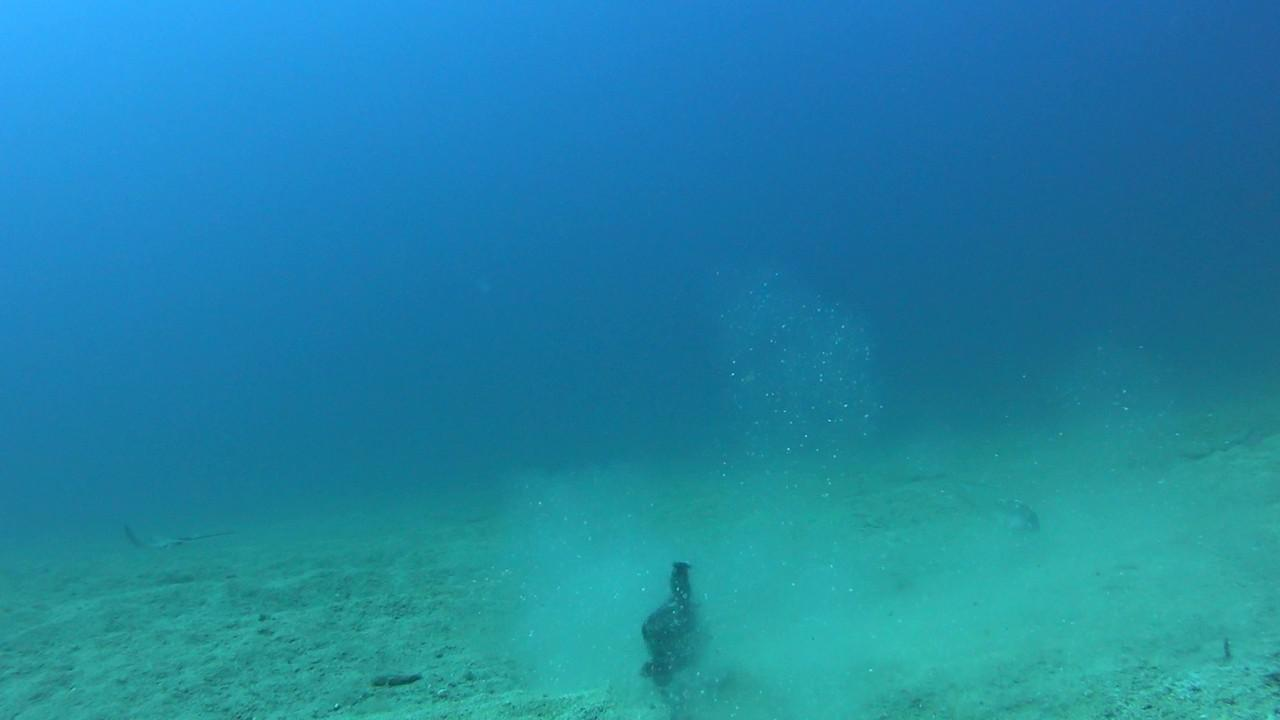myliobatis: (109, 510, 250, 554)
raor: (937, 474, 1050, 534)
